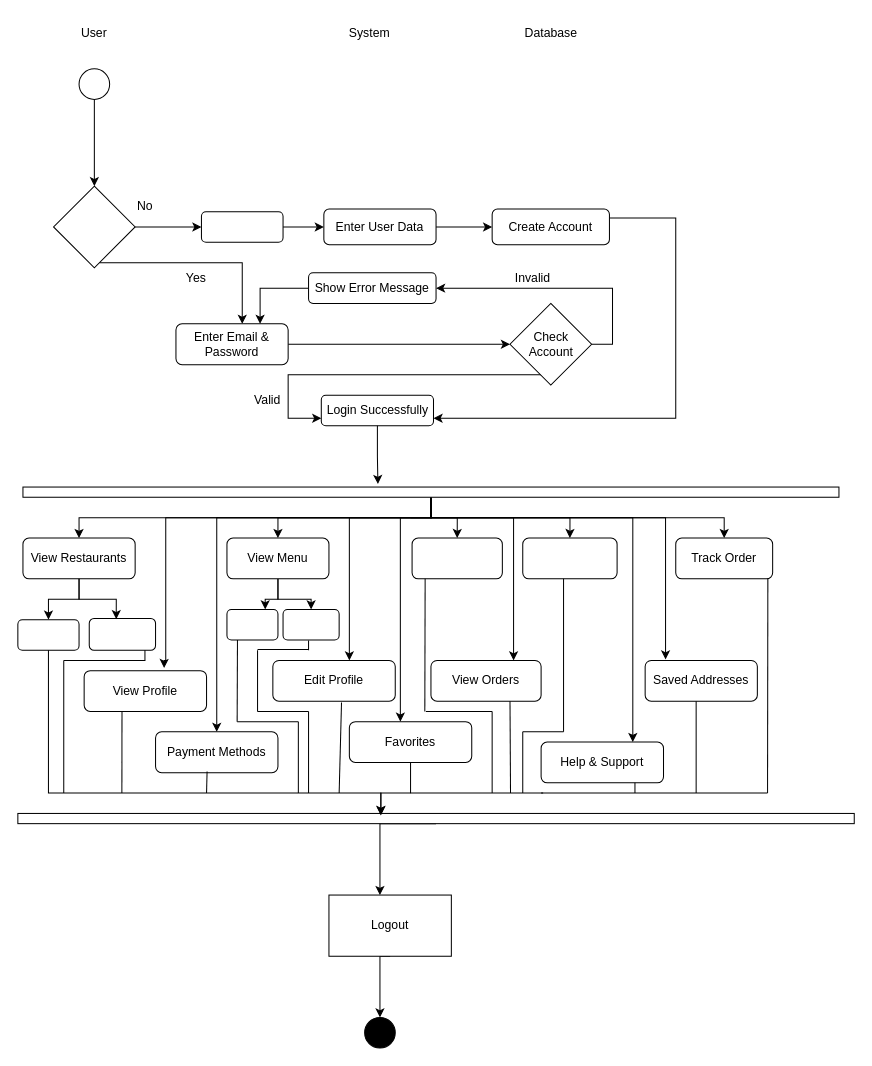
This 872x1066 diagram has some shape labels left out. The shapes that lost their labels are listed below. From the top down, each one's centre as x and y in pixels, then its label:
the point at 94,226: Have an account?
the point at 241,226: Sign Up
the point at 456,558: Add to Cart
the point at 569,558: Checkout
the point at 48,634: Search food
the point at 122,633: Select Category
the point at 252,624: Add Item
the point at 310,624: Customize Item
